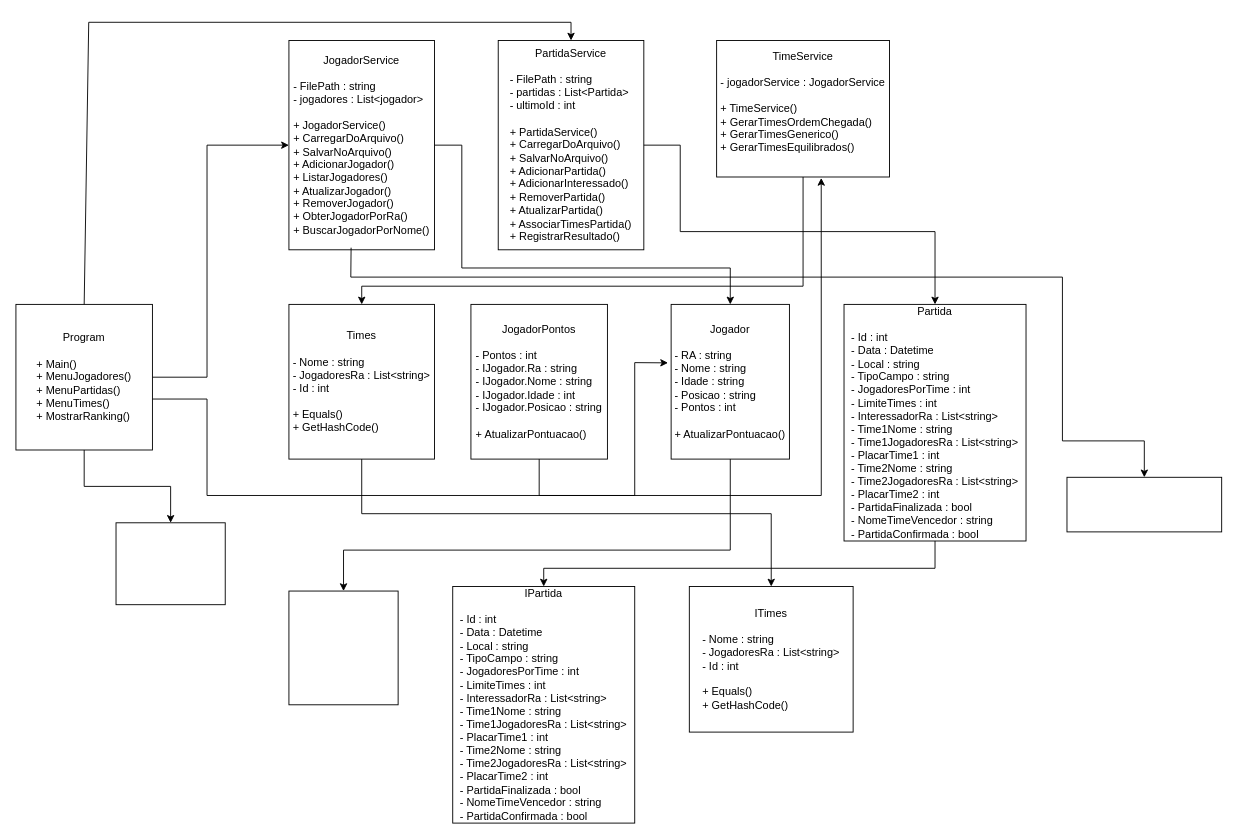
Image size: 1238x839. Some labels were removed from this diagram. The centre of each missing label's shape, as x and y in pixels:
IJogador - RA : string - Nome : string - Idade : string - Posicao : string: the point at 343,647
JogadorJaInscritoExecptions + JogadorJaInscritoExeptions(): the point at 1144,504
TelaInicial + ExibirTelaInicial(): the point at 170,563
